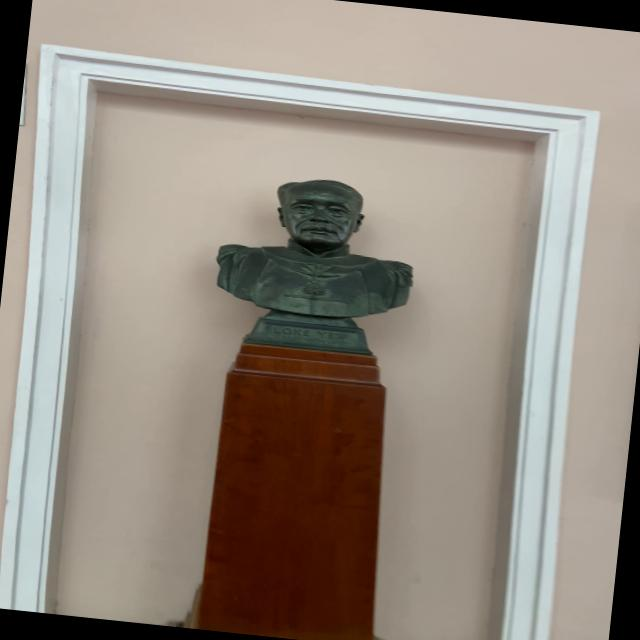statues: (200, 162, 433, 366)
